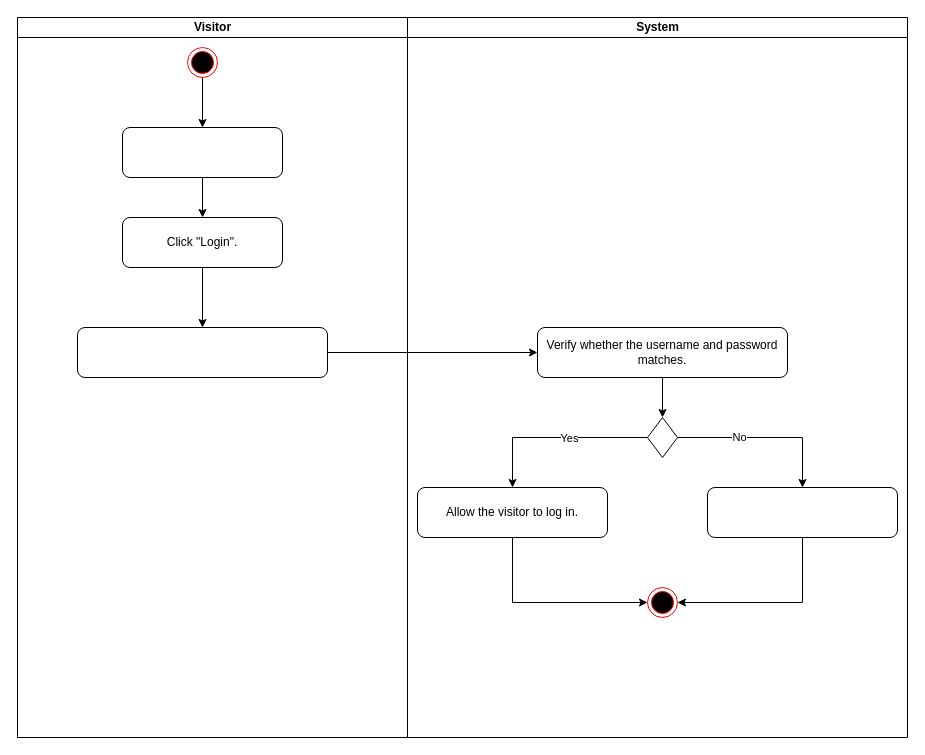
This 925x755 diagram has some shape labels left out. The centre of each missing label's shape, as x and y in pixels:
Enter the website.: point (202, 152)
Fill in their username and password for the system to check.: point (202, 352)
Show a notification: "Fail to log in: incorrect username or password", and exit.: point (802, 512)
